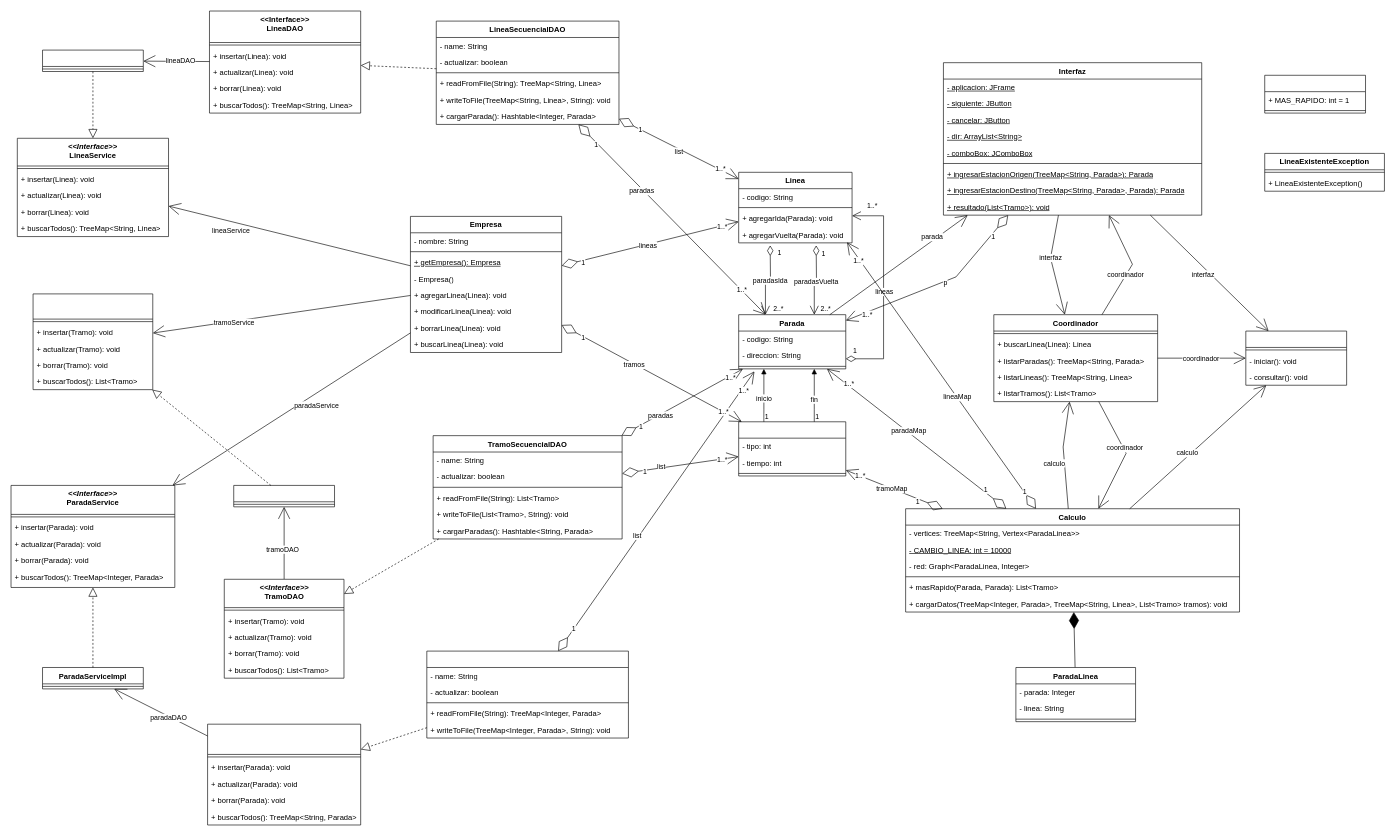
The diagram is 1395 pixels wide and 838 high, and some of its shapes have lost their labels. The box of each missing label's shape, as (x1, y1, x2, y2) in pixels:
<<Interface>> ParadaDAO: (207, 724, 361, 825)
<<Interface>> TramoService: (32, 293, 153, 390)
AplicacionConsultas: (1245, 330, 1347, 385)
Constantes: (1264, 75, 1366, 113)
LineaServiceImpl: (42, 49, 143, 72)
ParadaSecuencialDAO: (426, 650, 628, 738)
Tramo: (738, 421, 846, 476)
TramoServiceImpl: (233, 485, 335, 507)
